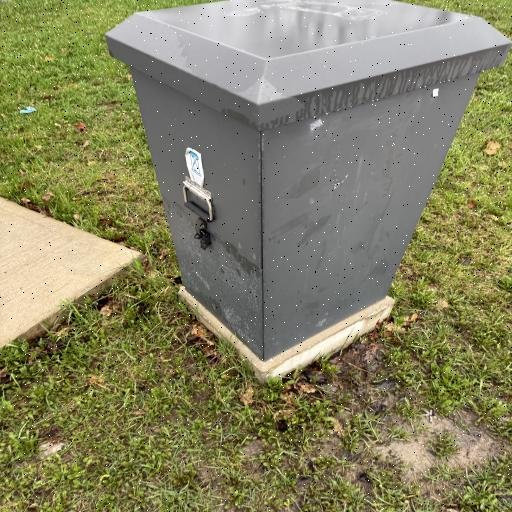Electrical Box: (103, 1, 511, 365)
